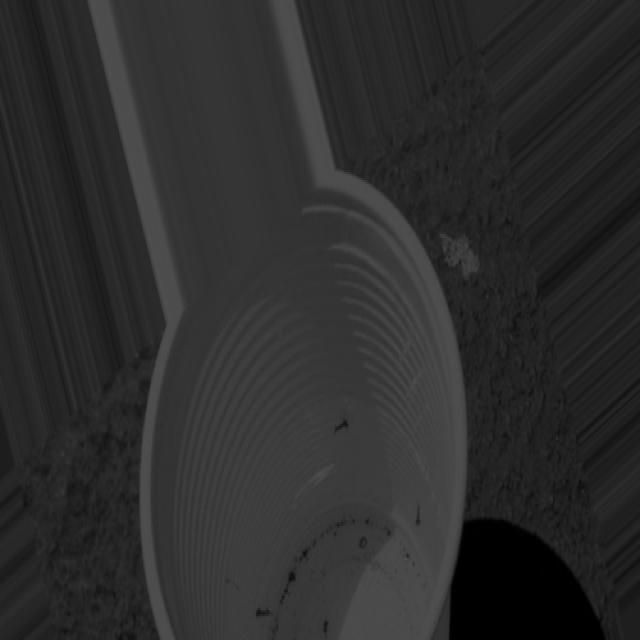larvas: (334, 418, 350, 432), (255, 608, 272, 620), (416, 505, 422, 528), (323, 616, 329, 637), (359, 536, 368, 549)
